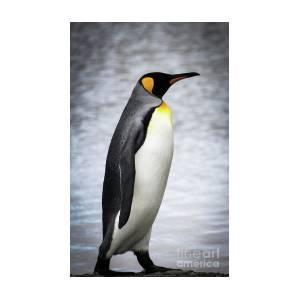king: (77, 54, 216, 286)
